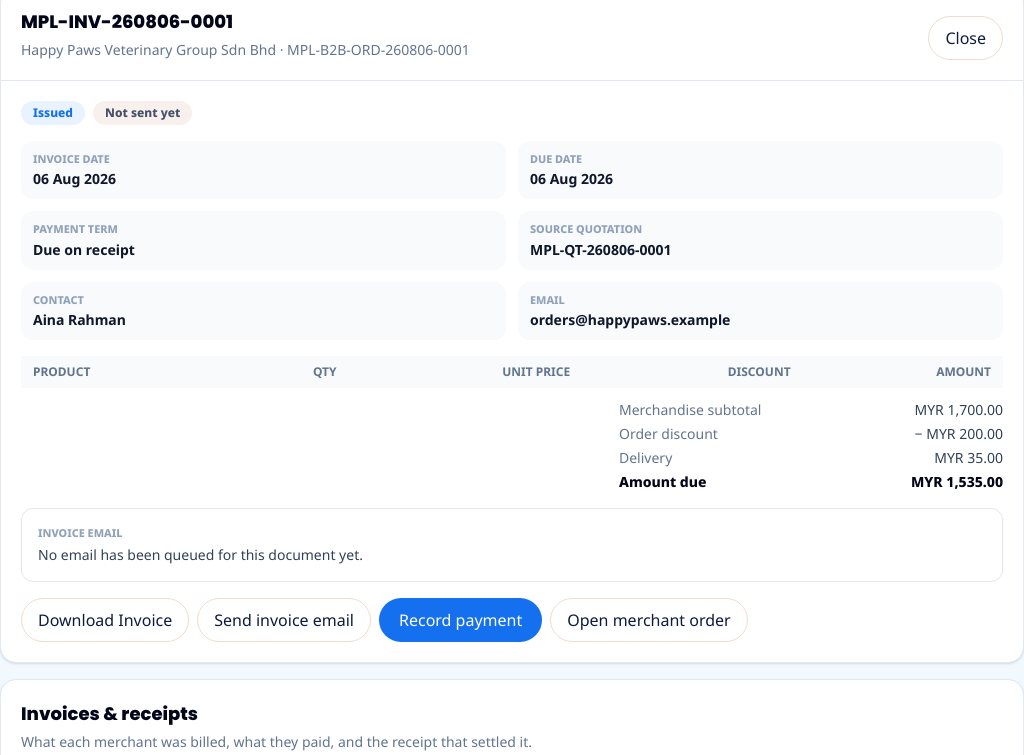
Recording a payment › pre-fills the exact invoice total
The width and height of the screenshot is (1024, 755).
Click the button with test id "open-record-payment": [461, 620] box x1=379 y1=598 x2=542 y2=642
(page scrolled)
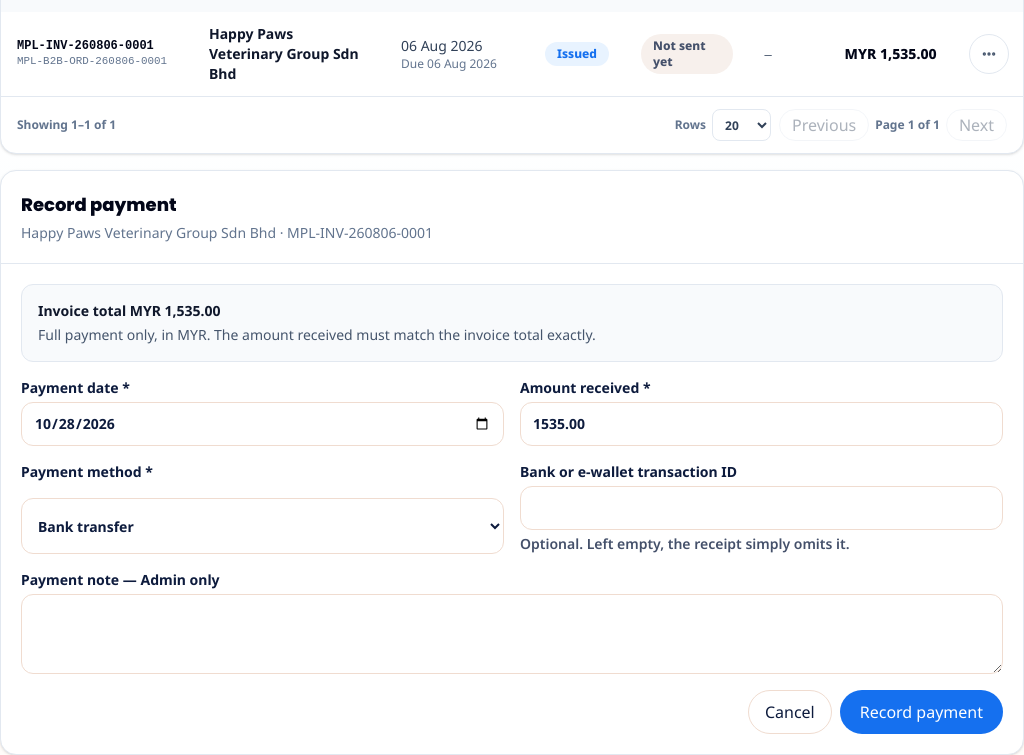
Expected: the number field with test id "payment-amount" holds "1535.00", x1=520 y1=402 x2=1003 y2=446
